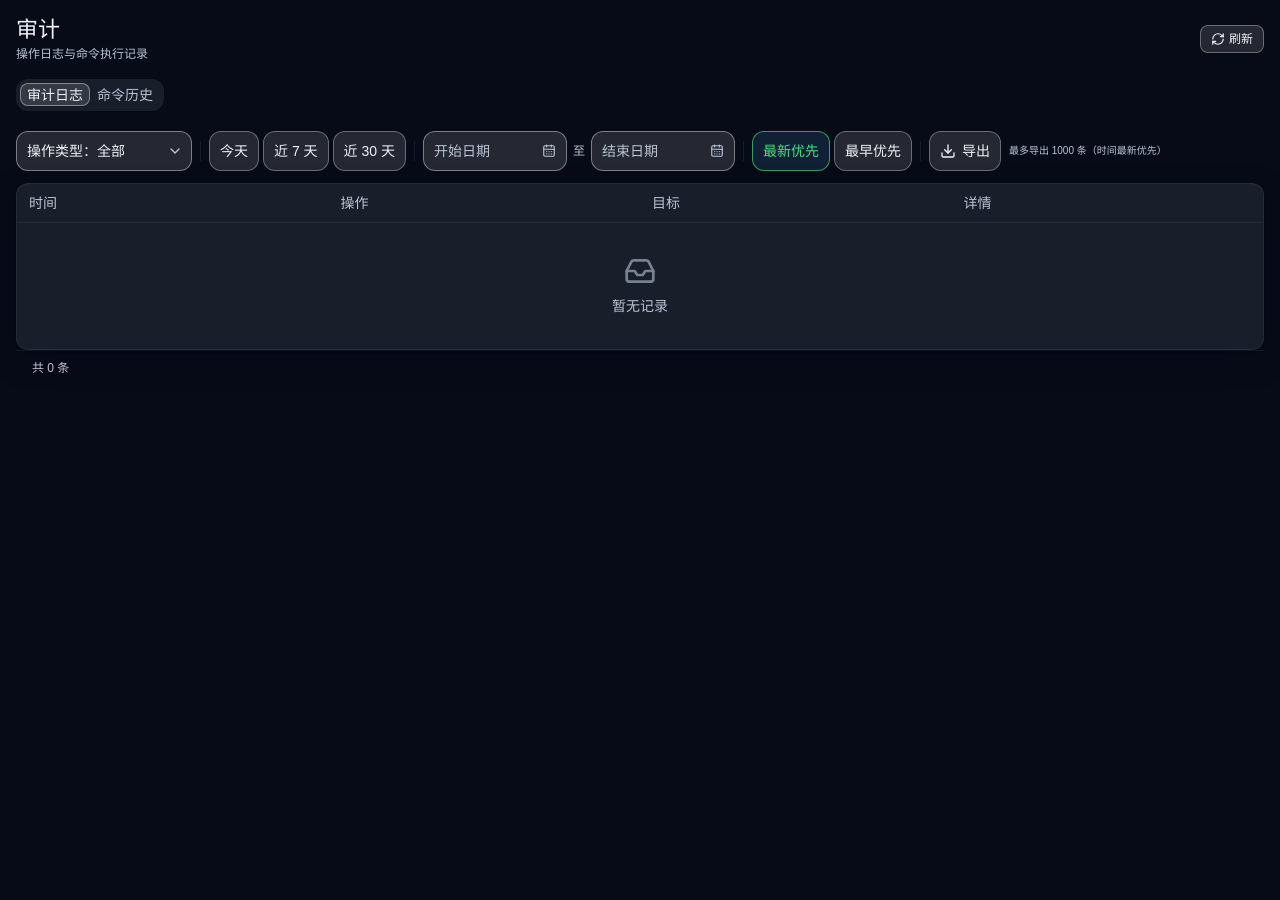
Test: AuditPage 空态 CTA › 筛选（操作类型）后空态：文案变更 + 「清空筛选」按钮出现
选择操作类型「启动实例」（radix Select 需要 pointer capture stub 环境）
Click the dropdown labelled "操作类型" at {"x": 104, "y": 151}, box [16,131,192,171]
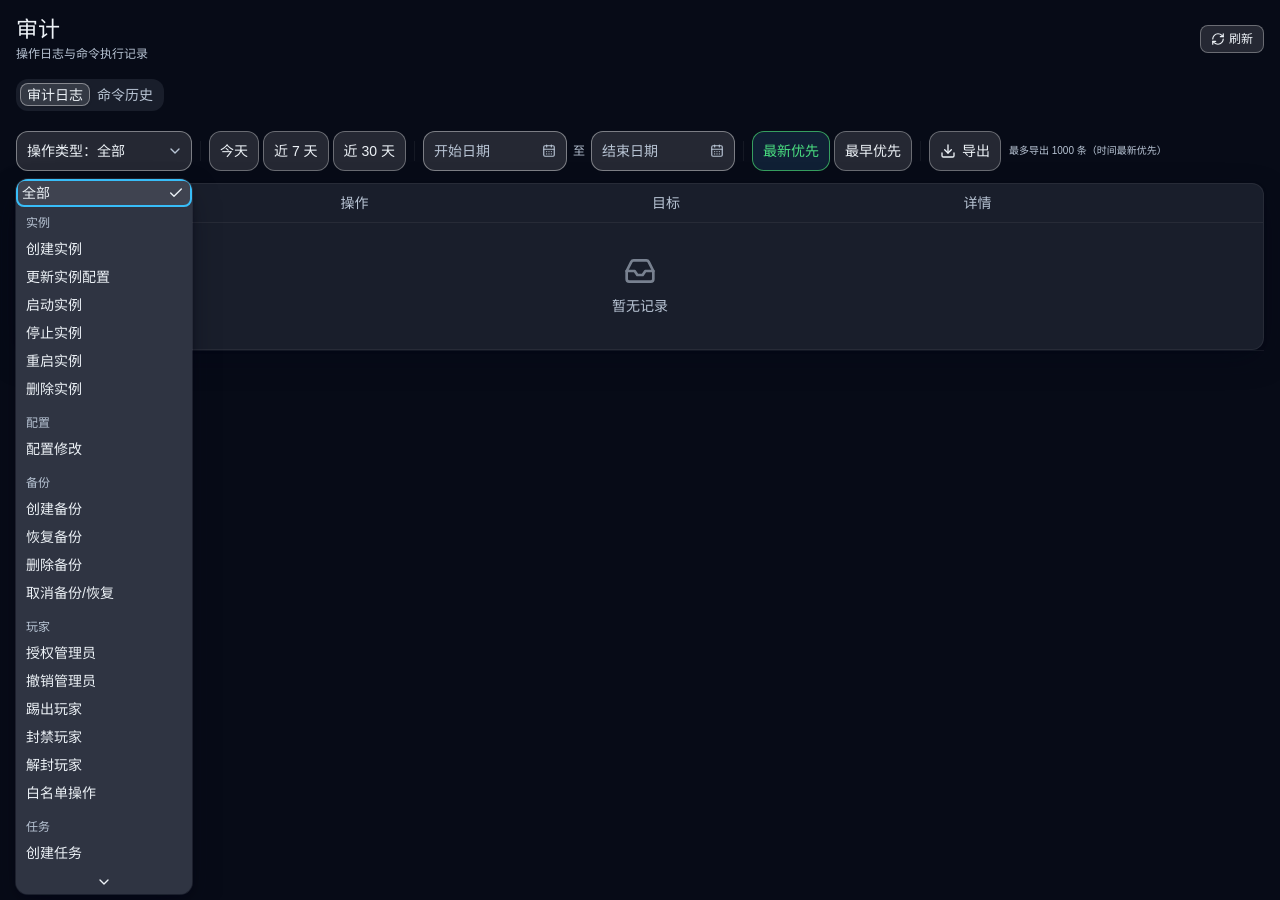
Click the option "启动实例" at {"x": 54, "y": 305}, box [26,297,82,313]
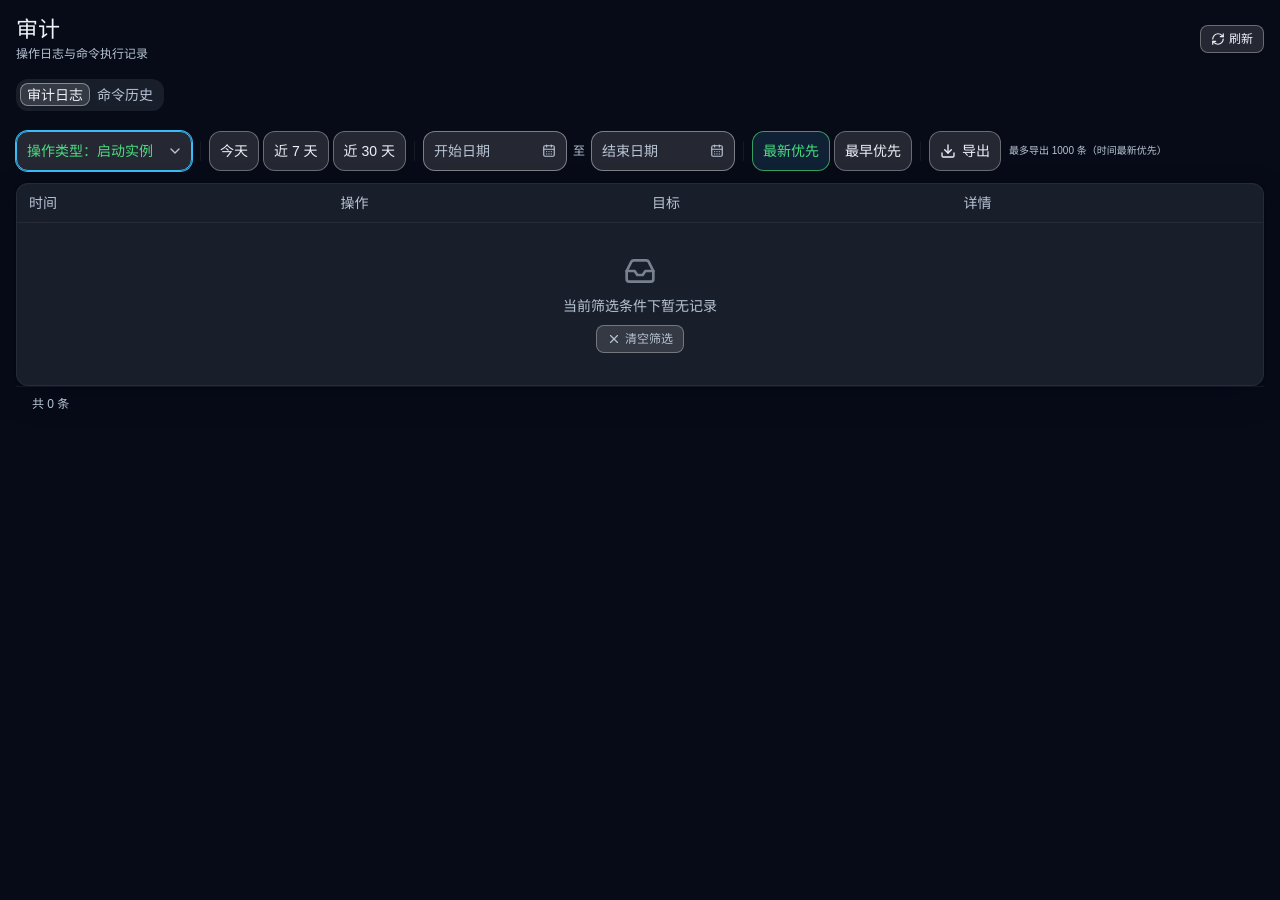
Result: the text "当前筛选条件下暂无记录" is shown at [563,295,717,317]
Result: the button with test id "audit-clear-filters" is shown
清空筛选 → 复位 + 恢复普通空态
Click the button with test id "audit-clear-filters" at {"x": 640, "y": 339}, box [596,325,684,353]
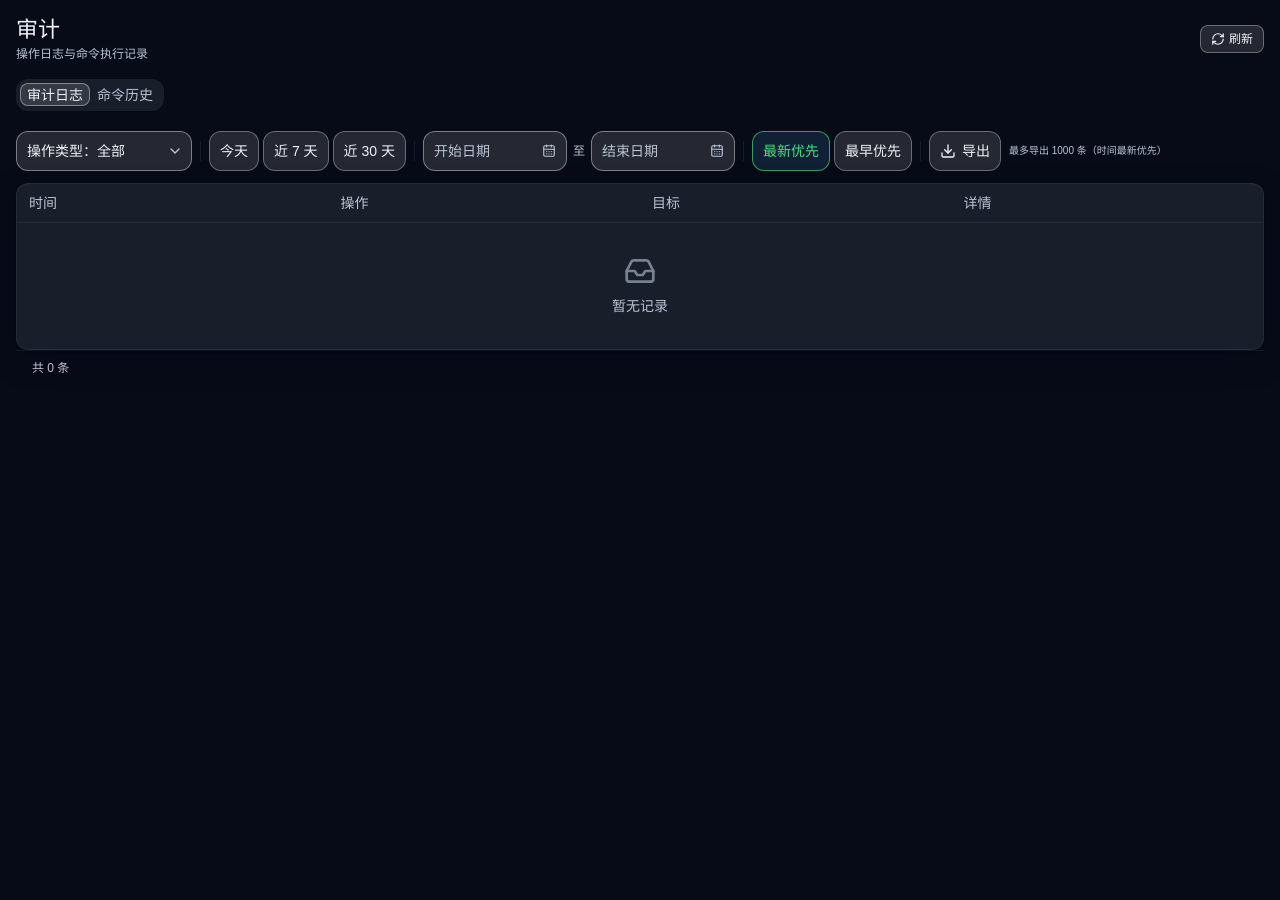
Expected: the text "暂无记录" is shown, [612,295,668,317]
Result: the text "当前筛选条件下暂无记录" is gone
Result: the button with test id "audit-clear-filters" is gone
